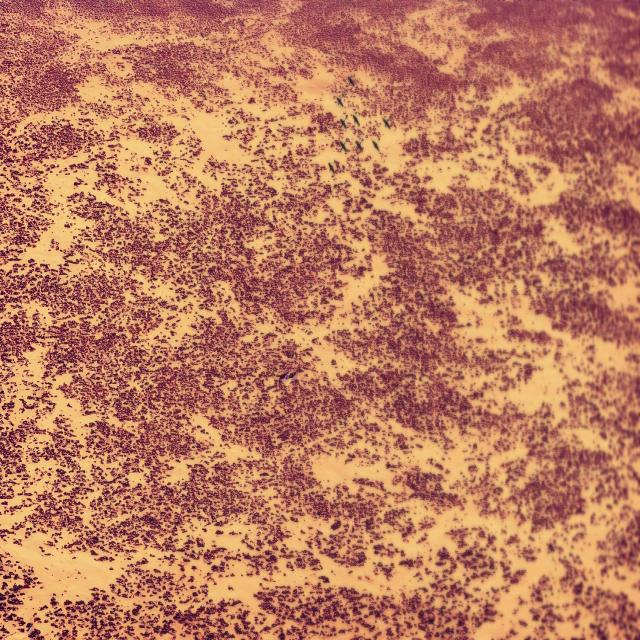airplane: (338, 137, 349, 154), (351, 111, 361, 127), (370, 136, 380, 152), (338, 114, 347, 130), (382, 113, 390, 130), (346, 71, 354, 87), (336, 92, 344, 108), (355, 139, 364, 153), (327, 159, 335, 174)
